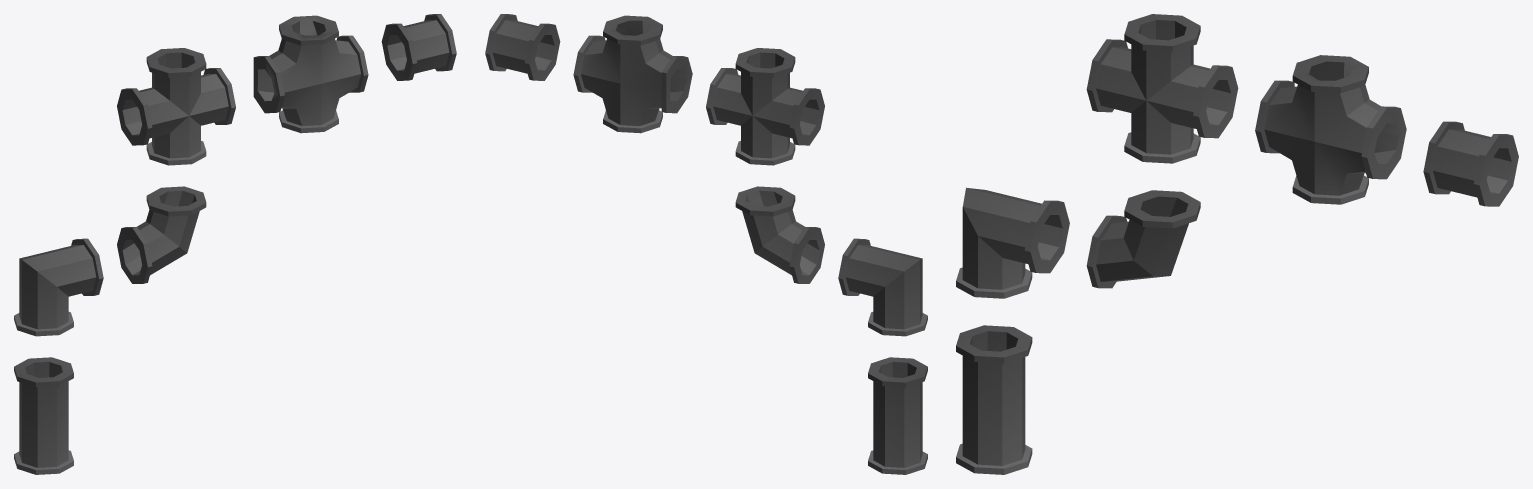
Rendered from Cañerias.fbx.
3 renders of one model, left to right at view 1: azimuth 30°, elevation 25°; view 2: azimuth 150°, elevation 25°; view 3: azimuth 330°, elevation 25°, orthographic. The views are drawn at different scales.
Parts seen in each view (by area): view 1: Cañerias05, Cañerias04, Cañerias01, Cañerias02, Cañerias03, Cañerias06; view 2: Cañerias05, Cañerias04, Cañerias01, Cañerias02, Cañerias03, Cañerias06; view 3: Cañerias05, Cañerias04, Cañerias01, Cañerias02, Cañerias03, Cañerias06.
Part boxes in pixels (bbox=[...]): Cañerias05: bbox=[253, 15, 368, 133]; Cañerias04: bbox=[117, 48, 235, 165]; Cañerias01: bbox=[14, 357, 73, 474]; Cañerias02: bbox=[14, 238, 103, 336]; Cañerias03: bbox=[117, 186, 206, 283]; Cañerias06: bbox=[381, 14, 456, 80]; Cañerias05: bbox=[573, 15, 692, 133]; Cañerias04: bbox=[706, 48, 824, 165]; Cañerias01: bbox=[868, 357, 927, 474]; Cañerias02: bbox=[838, 238, 927, 336]; Cañerias03: bbox=[735, 186, 824, 283]; Cañerias06: bbox=[485, 14, 560, 80]; Cañerias05: bbox=[1255, 55, 1406, 204]; Cañerias04: bbox=[1086, 14, 1238, 163]; Cañerias01: bbox=[956, 325, 1032, 474]; Cañerias02: bbox=[956, 187, 1069, 298]; Cañerias03: bbox=[1086, 190, 1200, 288]; Cañerias06: bbox=[1423, 121, 1518, 206].
Bounding box in the file's own units: 189 × 157 × 23.95.
Materials: 1 (1 with a texture image).
